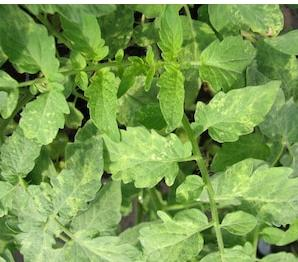Tomato leaf mosaic virus: (80, 127, 191, 191), (191, 78, 284, 143), (209, 160, 298, 227), (0, 8, 67, 83), (69, 174, 128, 245), (52, 137, 105, 214), (138, 206, 207, 261), (196, 33, 262, 89), (18, 78, 70, 149), (86, 67, 127, 144), (157, 65, 189, 134), (158, 5, 187, 63), (265, 24, 298, 60), (221, 209, 257, 235)
